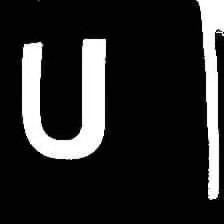LTR_U: (11, 33, 112, 164)
